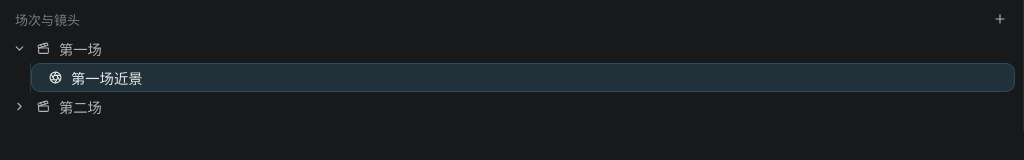
Test: scene and shot directory › can return from a shot to its parent and keep that scene collapsed
Step 1. Click the button "第一场" → {"x": 80, "y": 50}, box left=30, top=34, right=1015, bottom=63
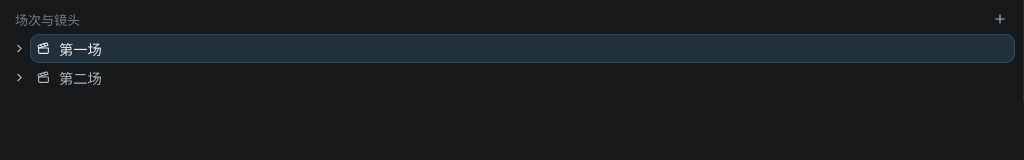
Now the button "第一场" is collapsed
Now the button "第一场近景" is gone
Step 2. Click the button "第一场" → {"x": 80, "y": 50}, box left=30, top=34, right=1015, bottom=63
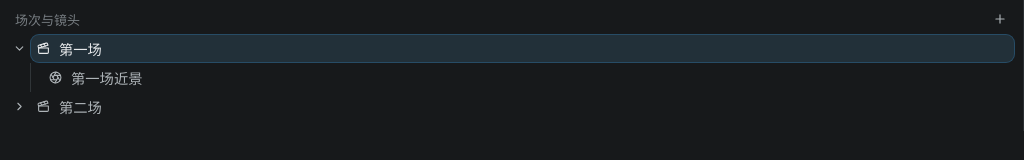
Now the button "第一场近景" is shown, box left=31, top=63, right=1015, bottom=92
